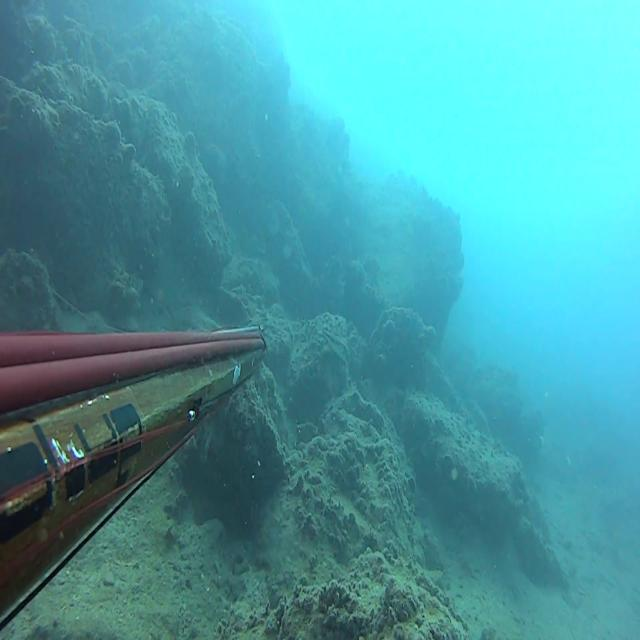Balon Baligi: (317, 320, 350, 362)
